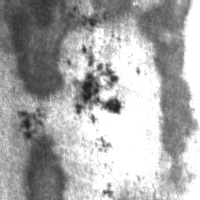inclusion: (70, 42, 125, 120), (18, 108, 46, 143)
patches: (140, 1, 199, 156), (7, 1, 66, 99), (23, 136, 69, 200), (84, 1, 138, 25)
